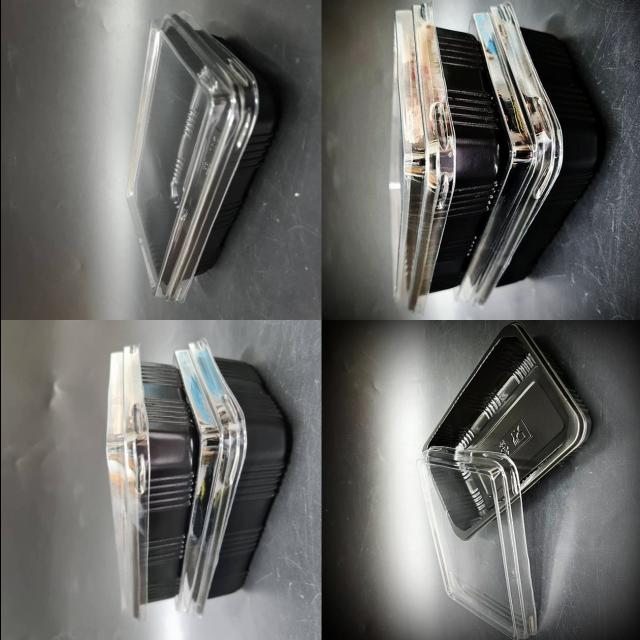plastik: (439, 3, 599, 305), (126, 13, 275, 302), (425, 323, 590, 540), (388, 4, 501, 310), (173, 340, 287, 615), (105, 345, 196, 618), (416, 447, 536, 640)
